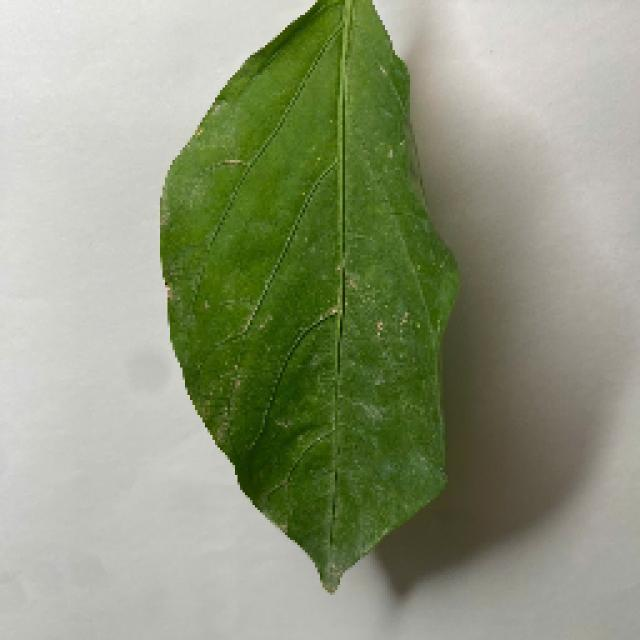Leaf: (157, 0, 461, 585)
